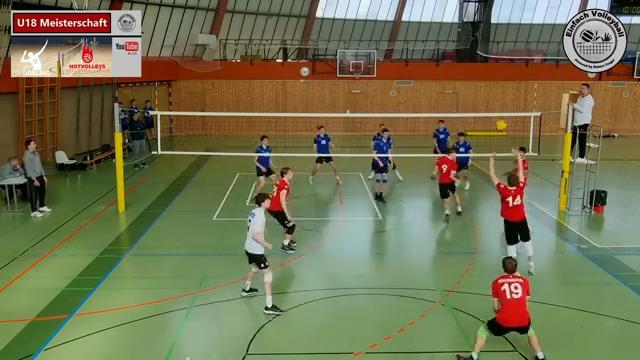Dig: (484, 148, 538, 278)
Player: (456, 257, 544, 359), (241, 193, 283, 314), (268, 167, 296, 253), (432, 148, 461, 220), (308, 125, 340, 183), (373, 128, 391, 201), (254, 135, 274, 192), (453, 132, 472, 190), (433, 120, 449, 154), (518, 146, 528, 184), (372, 123, 385, 147)
ball: (495, 119, 508, 131)
